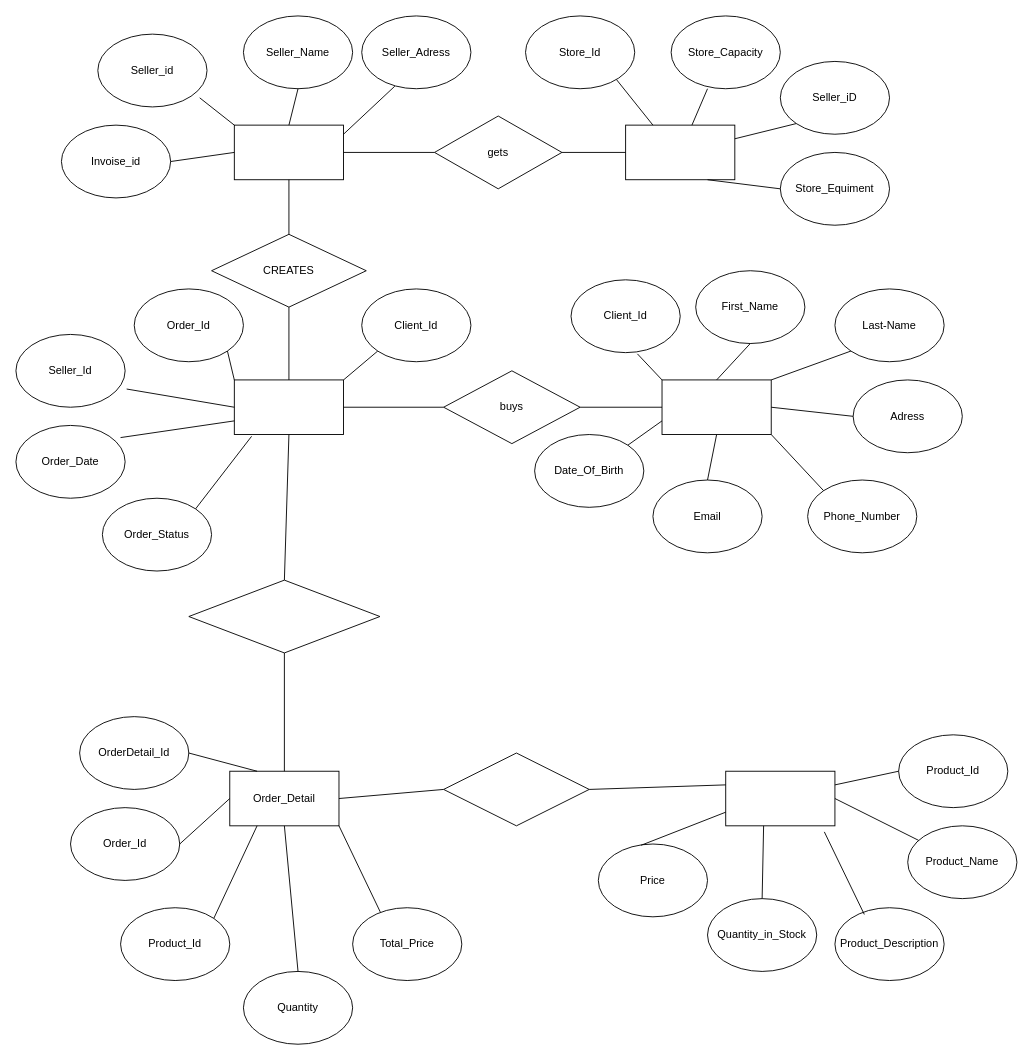
The diagram is 1033 pixels wide and 1060 high, and some of its shapes have lost their labels. The centre of each missing label's shape, as x and y in pixels:
"Client" goes at (716,407).
"has_info" goes at (284,616).
"Invoise" goes at (288,407).
"Product" goes at (780,798).
"Seller" goes at (288,152).
"sells" goes at (516,789).
"Store" goes at (680,152).
